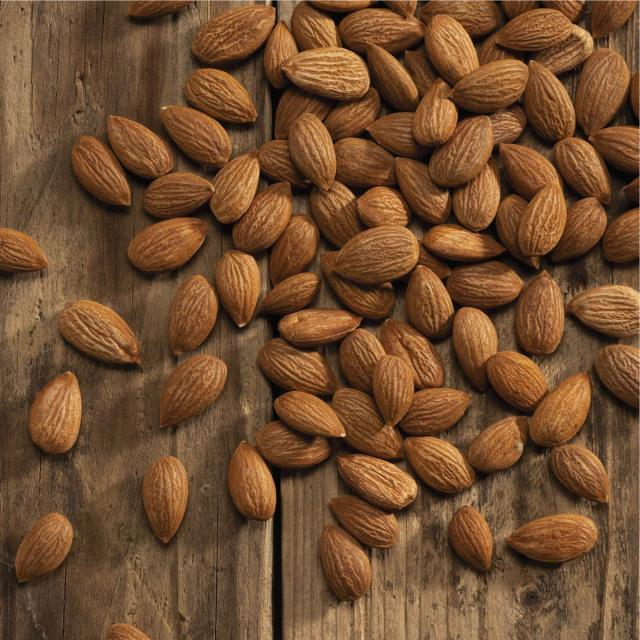cekirdek: (38, 387, 108, 450), (141, 459, 196, 536), (220, 447, 288, 508), (526, 508, 596, 565), (75, 139, 126, 206), (289, 52, 372, 92), (155, 105, 220, 154), (323, 538, 371, 604), (450, 312, 501, 374), (168, 359, 222, 417), (175, 276, 221, 343), (448, 71, 531, 108), (34, 518, 86, 574), (555, 139, 605, 195), (79, 314, 129, 368), (290, 397, 361, 435), (191, 56, 242, 107), (344, 228, 409, 266), (134, 227, 206, 261), (216, 247, 259, 303), (547, 376, 580, 448), (333, 495, 388, 537), (382, 350, 418, 414), (178, 372, 222, 424), (120, 116, 162, 170), (592, 280, 640, 325), (448, 512, 491, 561), (424, 87, 462, 142), (210, 12, 256, 56), (524, 202, 568, 248), (270, 356, 331, 389), (339, 142, 389, 181), (595, 55, 622, 125), (296, 116, 332, 168), (408, 271, 446, 319), (487, 364, 536, 400), (464, 180, 508, 220), (536, 74, 572, 122), (231, 159, 261, 205), (530, 287, 556, 339)
